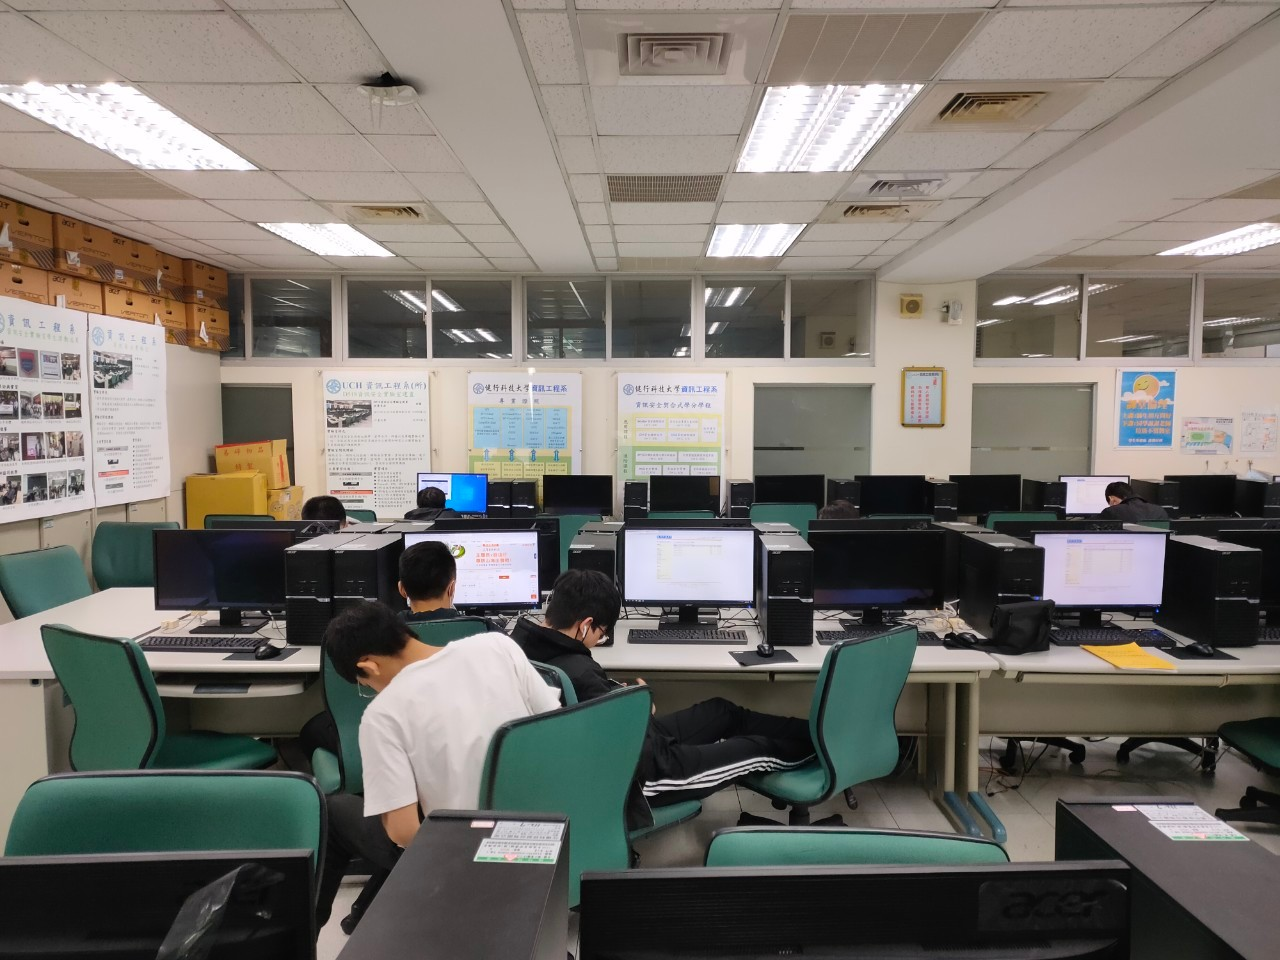people: (328, 595, 553, 875), (498, 555, 651, 753), (378, 540, 462, 622), (1108, 475, 1180, 540), (408, 480, 460, 531), (295, 484, 342, 535)
